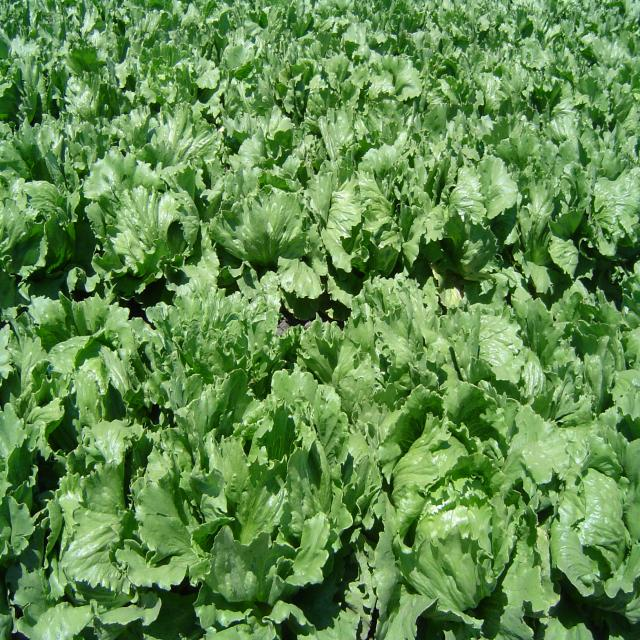Lettuce head: (398, 486, 520, 614), (190, 430, 299, 554), (67, 468, 155, 609), (302, 304, 396, 416), (573, 444, 640, 599), (421, 301, 527, 395), (564, 148, 640, 259), (40, 294, 128, 388), (213, 186, 311, 267), (353, 146, 423, 255), (1, 173, 81, 268), (109, 173, 181, 277), (172, 278, 246, 370), (445, 152, 523, 226), (230, 106, 292, 174), (160, 49, 221, 109), (366, 47, 417, 106)
